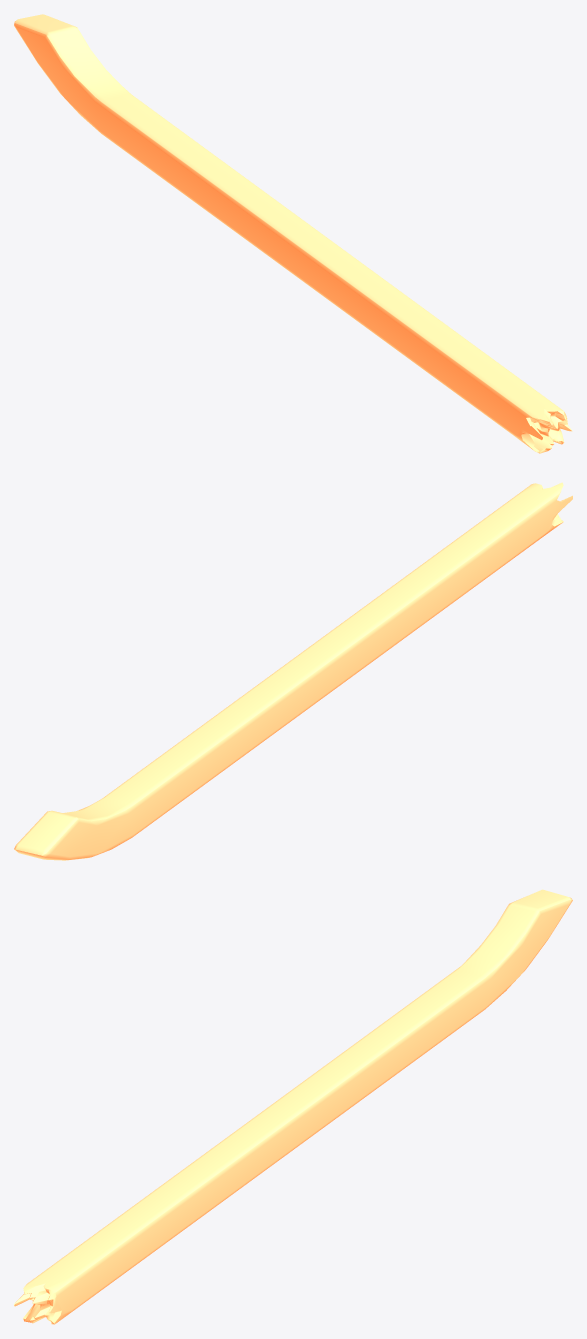
Rendered from SM_Rudder03.fbx.
3 views of the same model, one above another, from view 1: azimuth 30°, elevation 25°; view 2: azimuth 150°, elevation 25°; view 3: azimuth 330°, elevation 25° (orthographic).
Visible parts, largest first — view 1: SM_Rudder03_LOD0; view 2: SM_Rudder03_LOD0; view 3: SM_Rudder03_LOD0.
Part boxes in pixels (x1=…): SM_Rudder03_LOD0: x1=14, y1=14, x2=572, y2=453; SM_Rudder03_LOD0: x1=14, y1=482, x2=572, y2=860; SM_Rudder03_LOD0: x1=14, y1=889, x2=572, y2=1324.
Bounding box in the file's own units: 50.4 × 1376 × 87.94.
